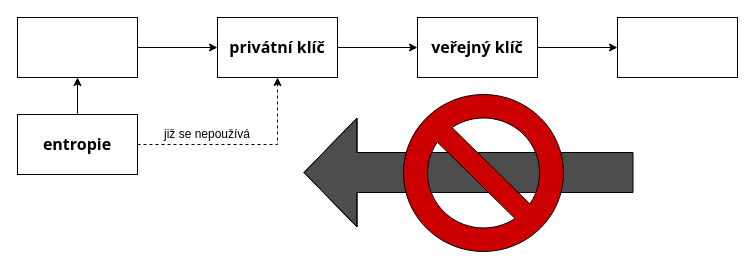
Image size: 755x269. Some labels were removed from this diagram. Each missing label, with the centre of its shape:
"adresa" belongs at point 677,47.
"seed" belongs at point 77,47.
